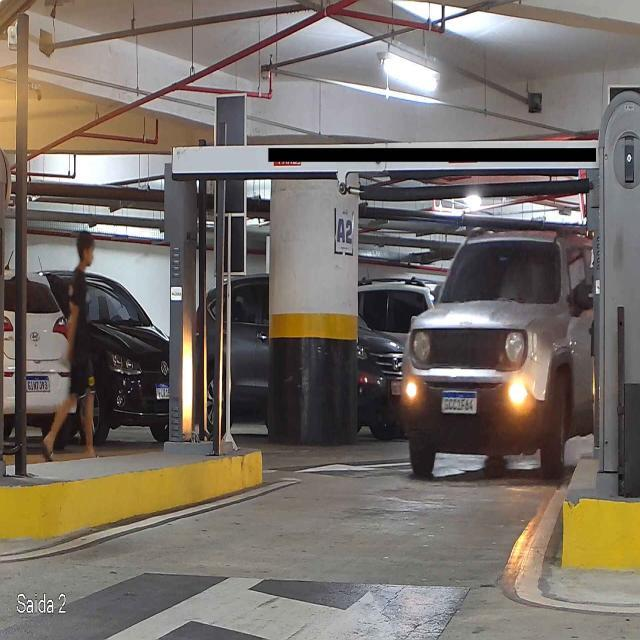mercosul_plate: (439, 390, 479, 416)
